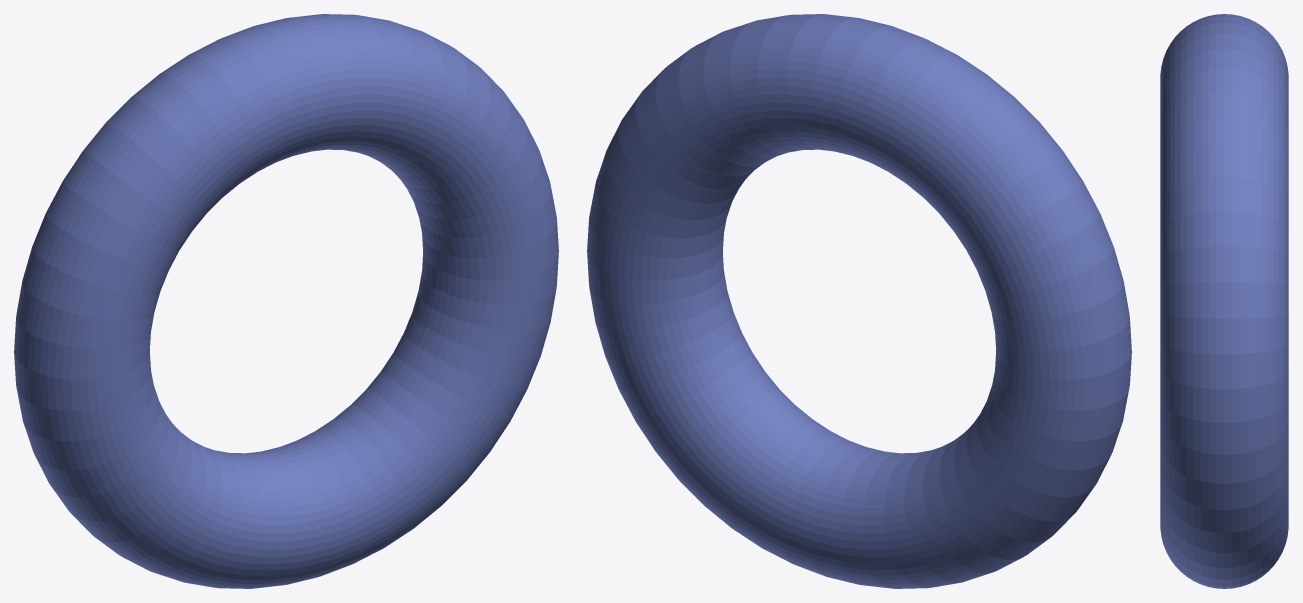
The picture shows the model from 3 angles, left to right: view 1: azimuth 30°, elevation 25°; view 2: azimuth 150°, elevation 25°; view 3: azimuth 270°, elevation 25°; orthographic projection. The views are drawn at different scales.
Parts seen in each view (by area): view 1: world; view 2: world; view 3: world.
Part boxes in pixels (x1,y1,x2,y2): world: (14,14,558,588); world: (587,14,1131,588); world: (1160,14,1288,588).
Size of the model in its own units: 13.73 by 13.71 by 3.06.
